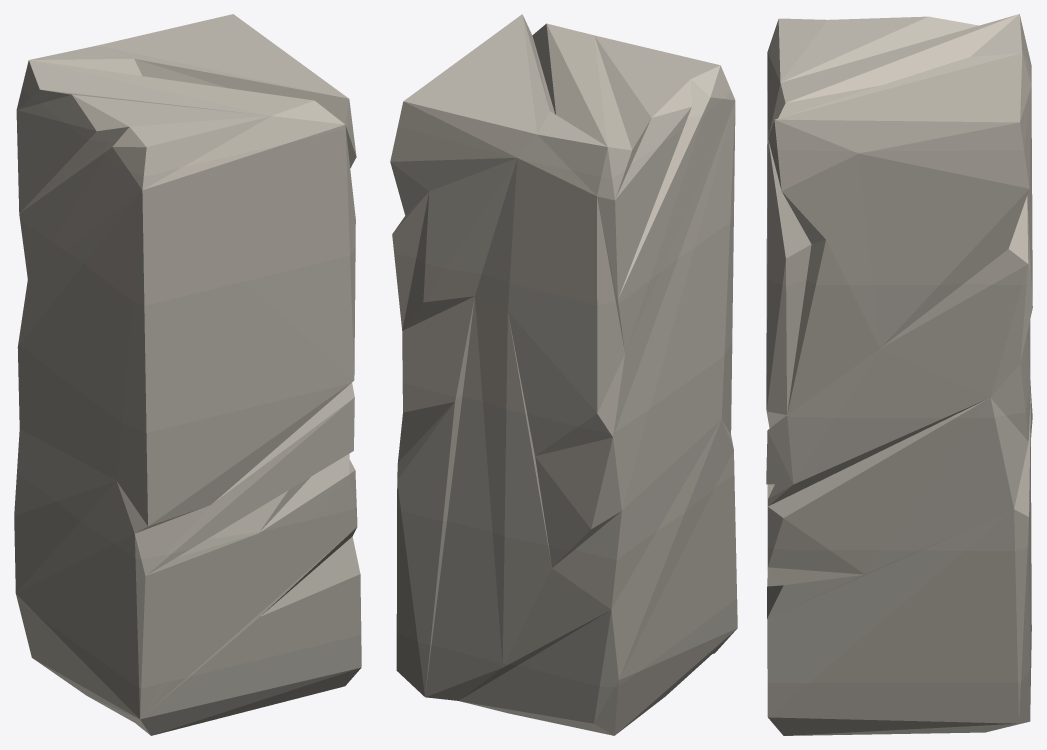
The model's file is YN_Pillar9.fbx.
The picture shows the model from 3 angles, left to right: view 1: azimuth 30°, elevation 25°; view 2: azimuth 150°, elevation 25°; view 3: azimuth 270°, elevation 25°; orthographic projection. The views are drawn at different scales.
Parts seen in each view (by area): view 1: Pillar9; view 2: Pillar9; view 3: Pillar9.
Part boxes in pixels (x1,y1,x2,y2): Pillar9: (14,14,361,735); Pillar9: (390,14,737,735); Pillar9: (766,14,1032,735).
Size of the model in its own units: 1.35 by 3.4 by 1.31.
